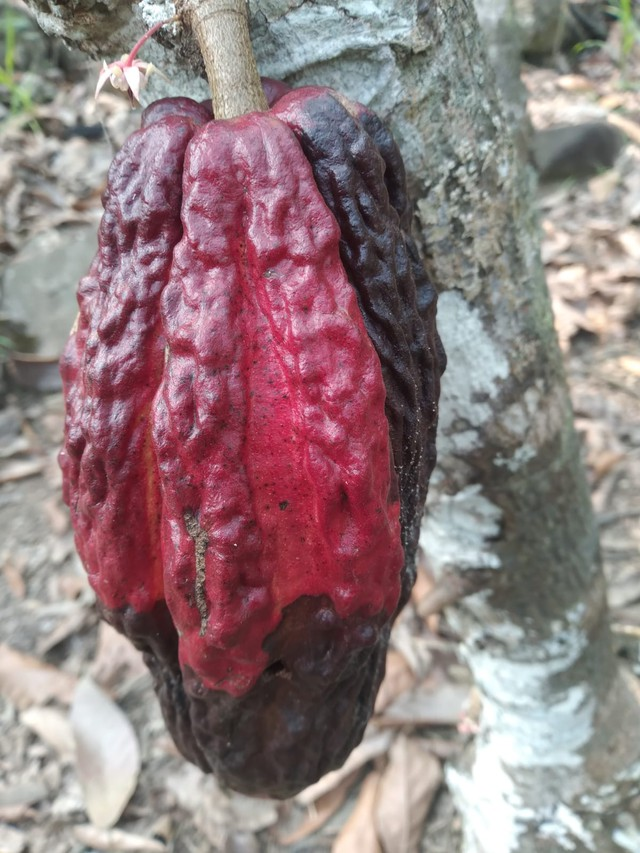phytophthora palmivora: (46, 68, 464, 807)
